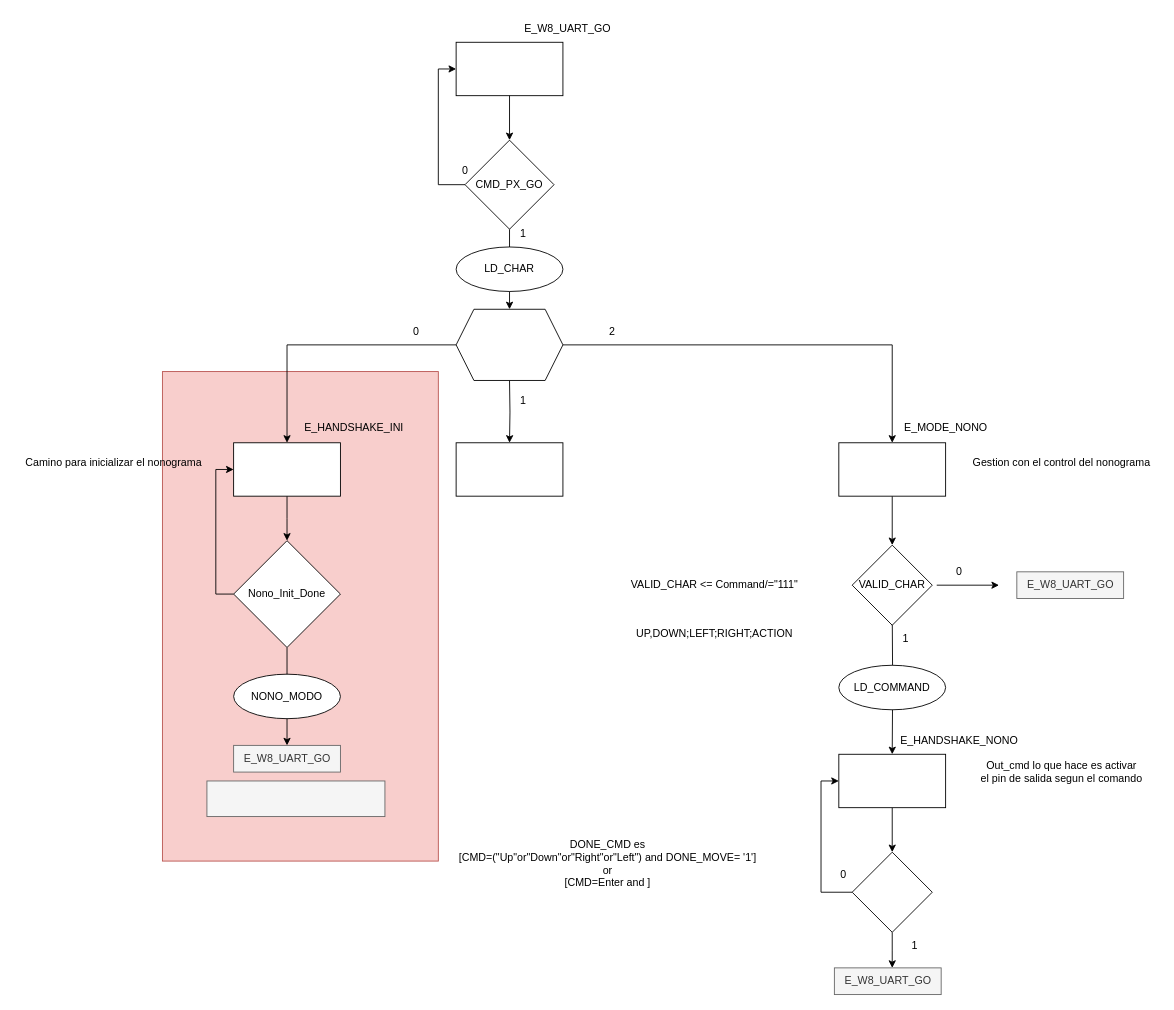
This 1174x1010 diagram has some shape labels left out. The centre of each missing label's shape, as x and y in pixels:
Aqui falta el camino para esperar los 10*10 codigos del nonograma: the point at 295,798
DONE_CMD: the point at 891,891
INI_nonograma: the point at 286,469
MODO: the point at 509,344
OUT_CMD: the point at 892,780
